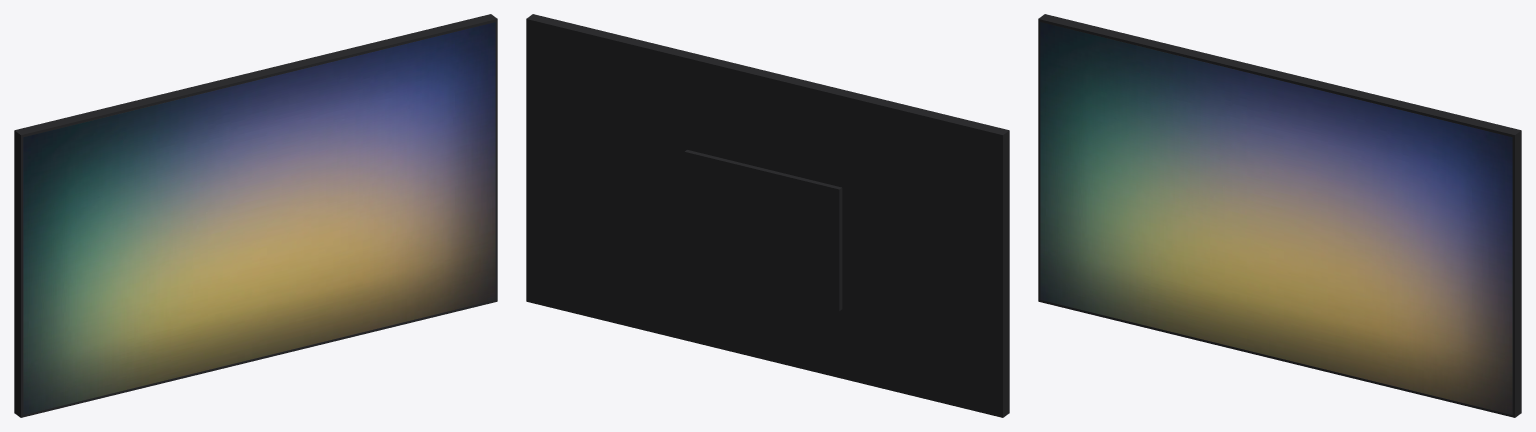
Rendered from obj-tv-55-wall.glb.
3 renders of one model, left to right at view 1: azimuth 30°, elevation 25°; view 2: azimuth 150°, elevation 25°; view 3: azimuth 330°, elevation 25°, orthographic.
Visible parts, largest first — view 1: obj-tv-55-wall; view 2: obj-tv-55-wall; view 3: obj-tv-55-wall.
Part boxes in pixels (bbox=[...]): obj-tv-55-wall: bbox=[14, 14, 497, 417]; obj-tv-55-wall: bbox=[526, 14, 1009, 417]; obj-tv-55-wall: bbox=[1038, 14, 1521, 417].
Bounding box in the file's own units: 1.23 × 0.6971 × 0.0428.
2 materials, 1 textured.
